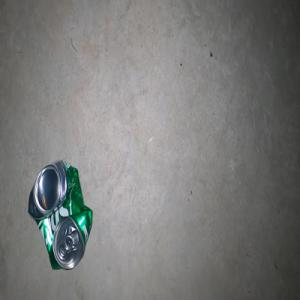SodaCan: (27, 159, 92, 270)
